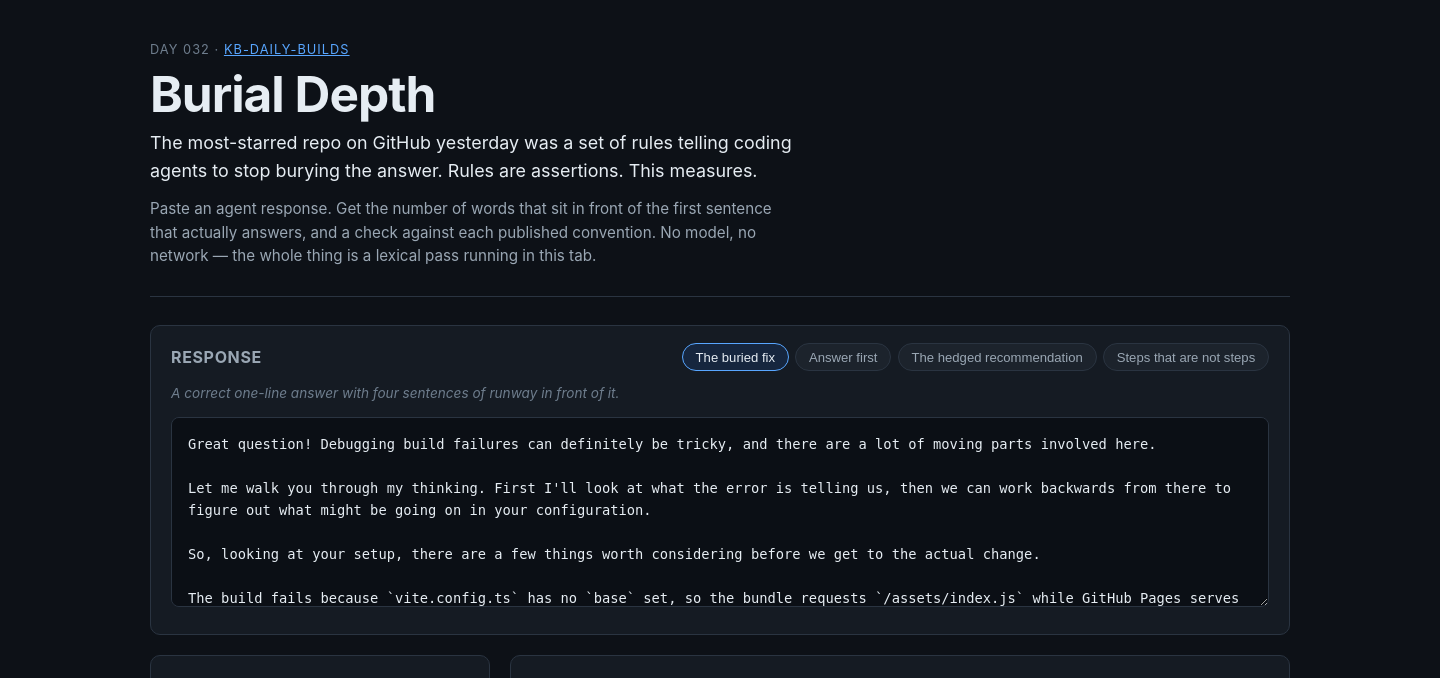
Test: App › shows the sample note when a sample is loaded
This screenshot has width=1440, height=678.
Click the button "The hedged recommendation" at coordinates (997, 357), box [898,343,1097,372]
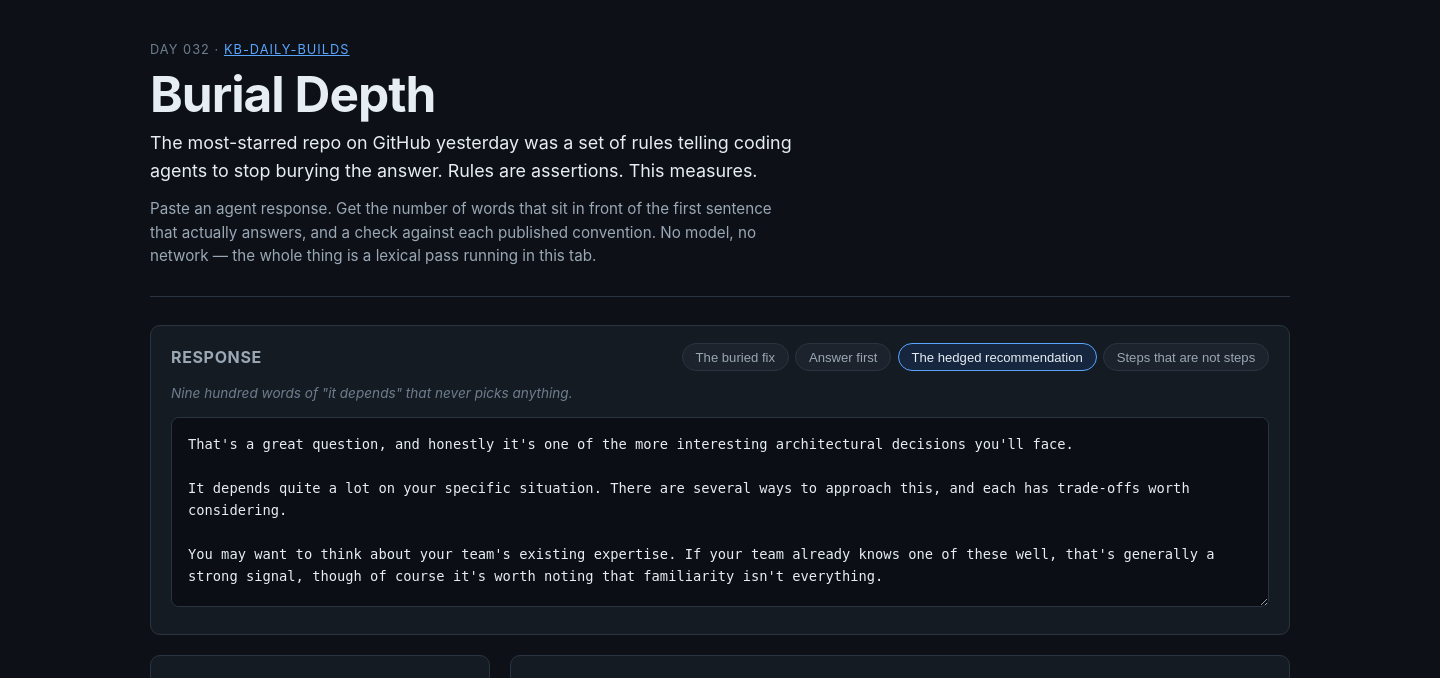
Expected: the text "Nine hundred words of \"it depends\" that never picks anything." is shown, [171,385,573,401]
